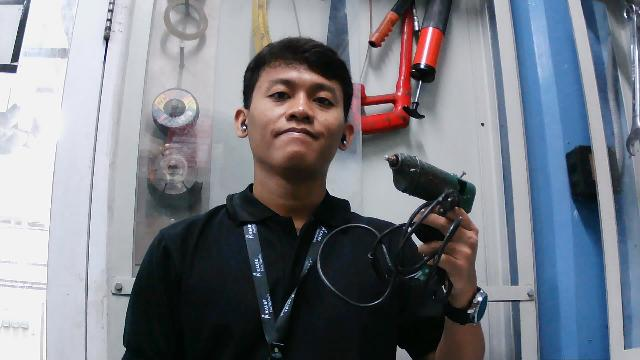gun_lem: (318, 151, 480, 307)
